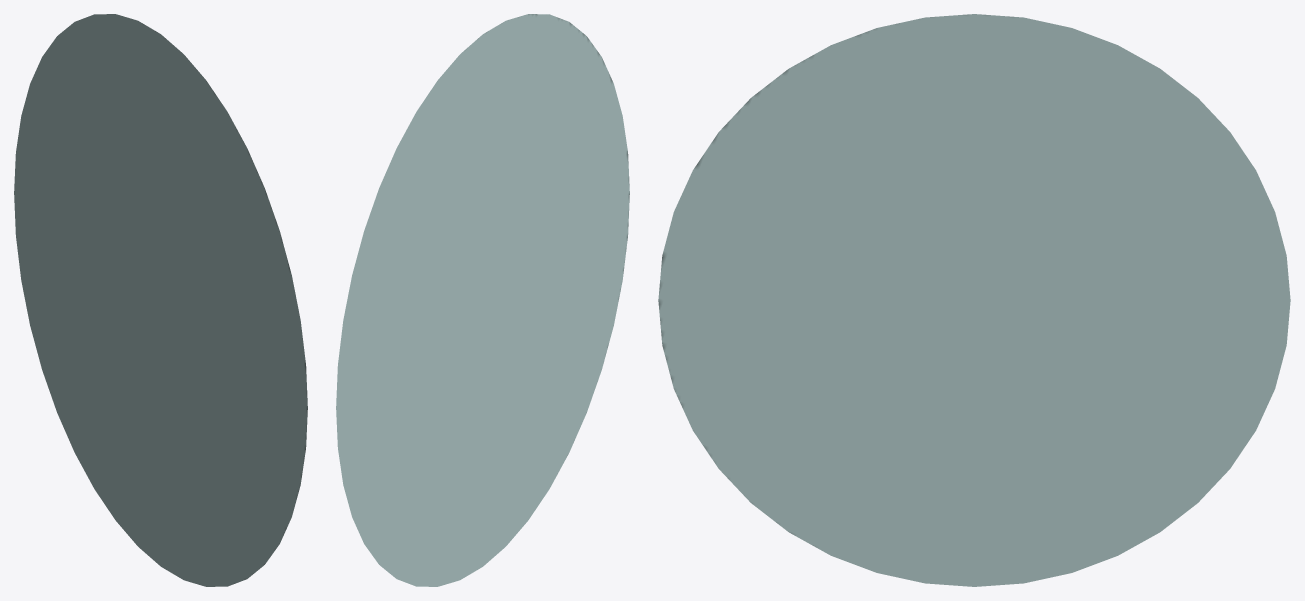
Rendered from Trigger.obj.
3 views of the same model, side by side, from view 1: azimuth 30°, elevation 25°; view 2: azimuth 150°, elevation 25°; view 3: azimuth 270°, elevation 25° (orthographic). The views are drawn at different scales.
Visible parts, largest first — view 1: pCone1; view 2: pCone1; view 3: pCone1.
Boxes of the visible parts, <box> form: pCone1: <box>14,14,307,586</box>; pCone1: <box>336,14,629,586</box>; pCone1: <box>658,14,1290,586</box>.
Size of the model in its own units: 0 by 10.86 by 10.86.
1 material, 1 textured.
